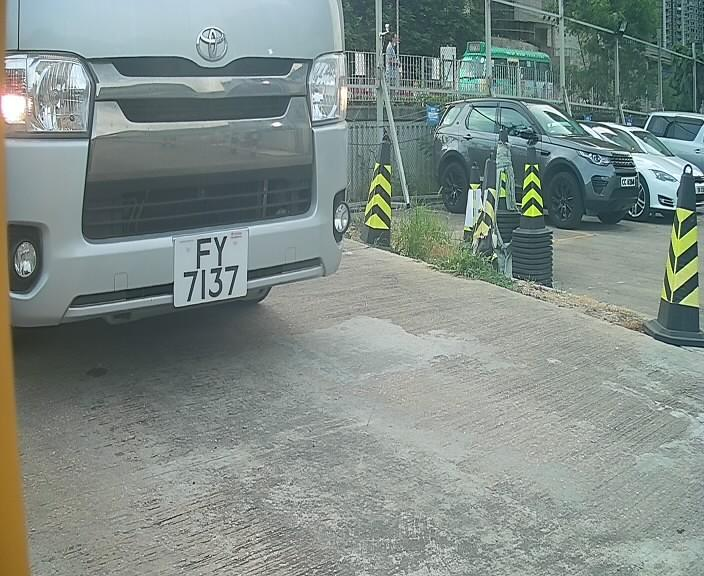privatecar: (13, 3, 371, 353)
